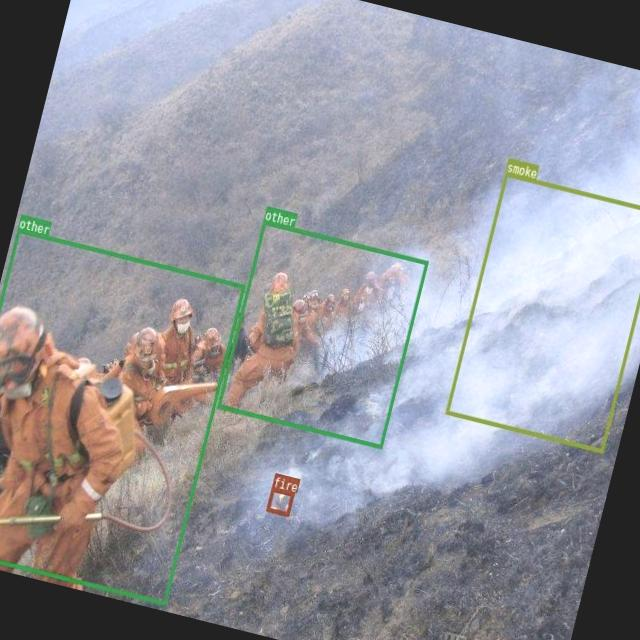fire: (266, 486, 294, 516)
smoke: (444, 170, 640, 452)
